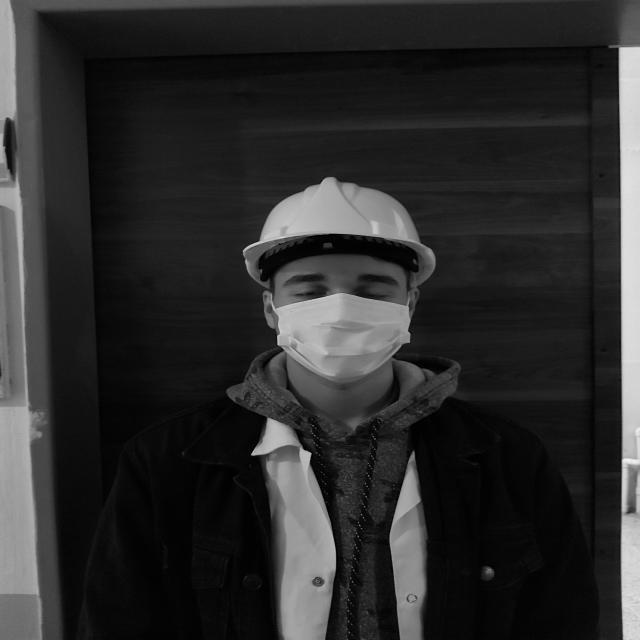safety_helmet: (243, 178, 438, 289)
